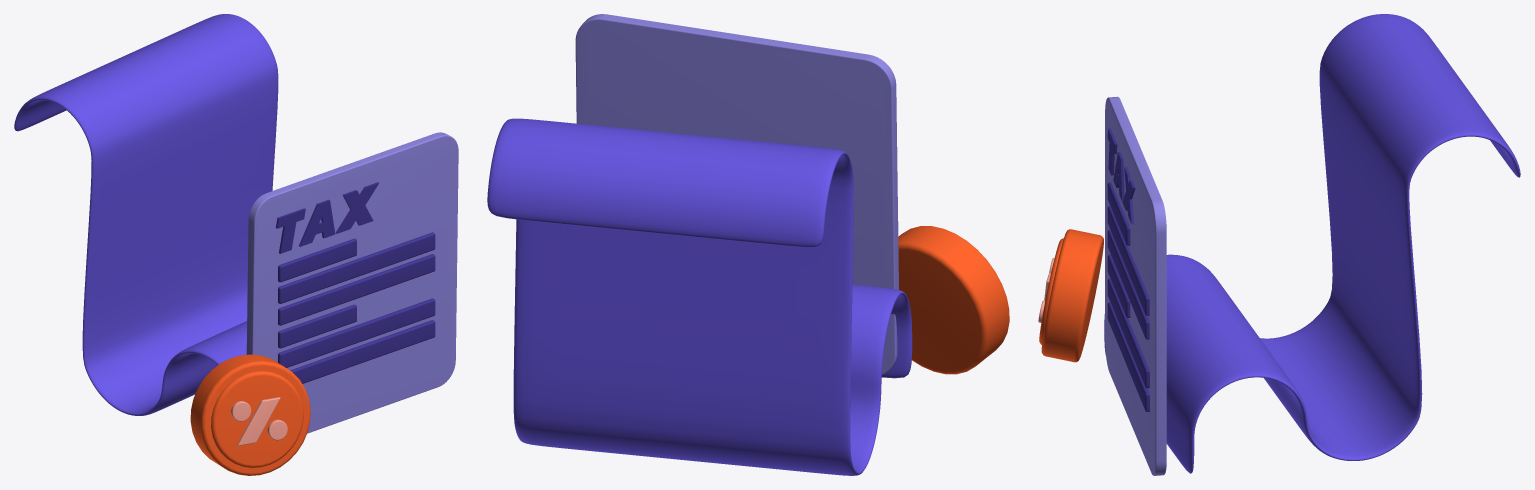
File: Tax Filing.glb
3 renders of one model, left to right at view 1: azimuth 30°, elevation 25°; view 2: azimuth 150°, elevation 25°; view 3: azimuth 270°, elevation 25°, orthographic. The views are drawn at different scales.
Visible parts, largest first — view 1: Cylinder.028, Plane.010, Cube.025, Cylinder.029, Text.004, Cylinder.031; view 2: Cylinder.028, Plane.010, Cylinder.029; view 3: Cylinder.028, Plane.010, Cylinder.029, Cube.025, Text.004.
Part boxes in pixels (bbox=[...]): Cylinder.028: bbox=[14, 14, 278, 415]; Plane.010: bbox=[246, 132, 458, 433]; Cube.025: bbox=[278, 232, 435, 383]; Cylinder.029: bbox=[190, 354, 310, 475]; Text.004: bbox=[276, 182, 378, 253]; Cylinder.031: bbox=[231, 397, 287, 445]; Cylinder.028: bbox=[487, 118, 912, 475]; Plane.010: bbox=[575, 14, 898, 374]; Cylinder.029: bbox=[898, 226, 1009, 374]; Cylinder.028: bbox=[1104, 14, 1520, 473]; Plane.010: bbox=[1105, 96, 1166, 475]; Cylinder.029: bbox=[1039, 229, 1103, 362]; Cube.025: bbox=[1107, 182, 1149, 411]; Text.004: bbox=[1107, 128, 1135, 224].
Size of the model in its own units: 3.74 by 3.23 by 4.47.
